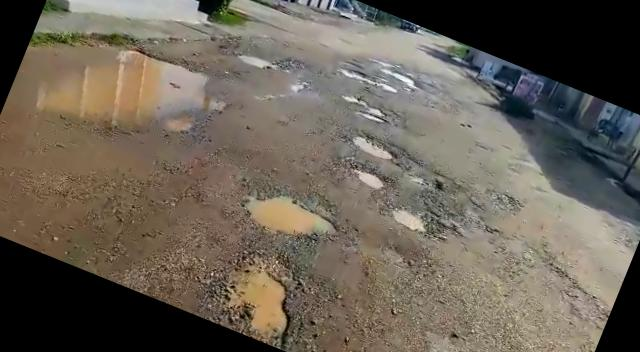pothole: (5, 7, 221, 174), (202, 242, 321, 350), (238, 176, 350, 256), (382, 200, 445, 240), (344, 127, 406, 167), (338, 92, 393, 128), (339, 157, 394, 192), (340, 65, 398, 98), (234, 48, 278, 76), (379, 63, 421, 90)
